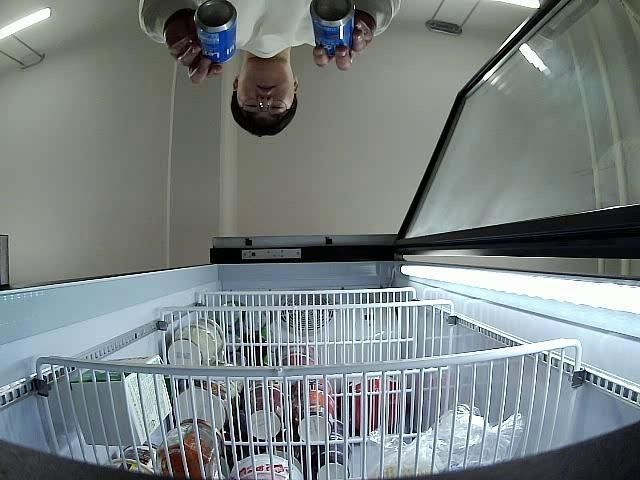15_letsbe: (308, 0, 357, 59), (193, 0, 237, 64)
